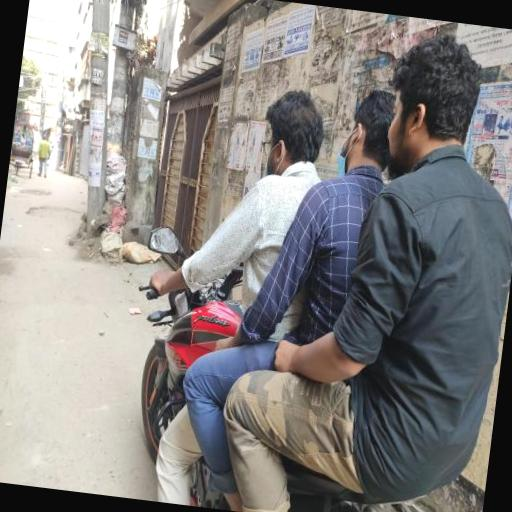no helmet: (216, 63, 352, 228)
triple riding: (109, 13, 512, 512)
